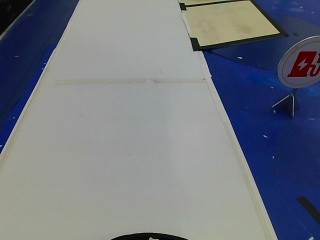battery: (279, 37, 318, 90)
